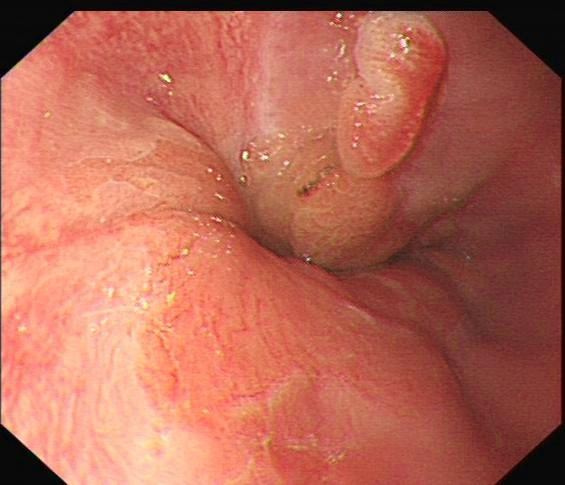Polyp: (328, 10, 446, 184)
